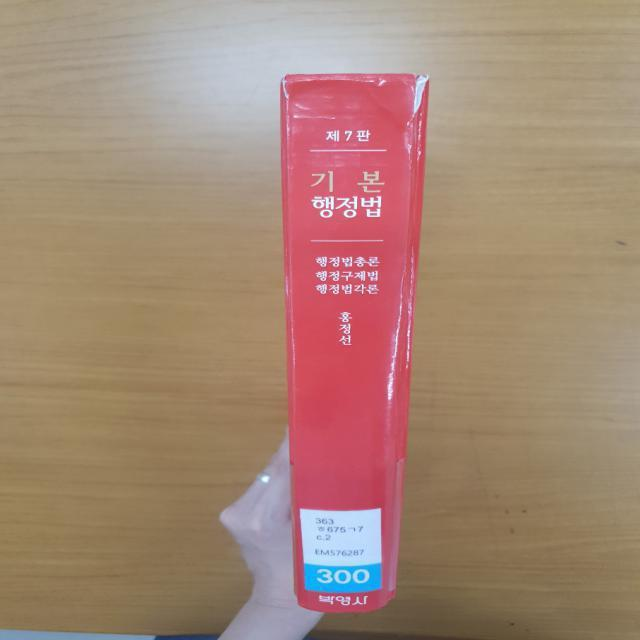Ripped: (400, 68, 433, 132), (272, 70, 293, 122)
